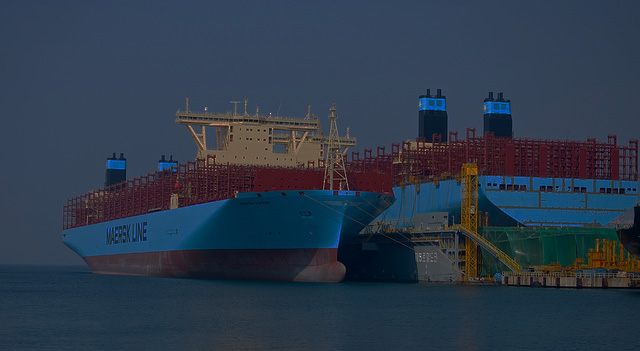container_ship: (62, 99, 393, 285)
